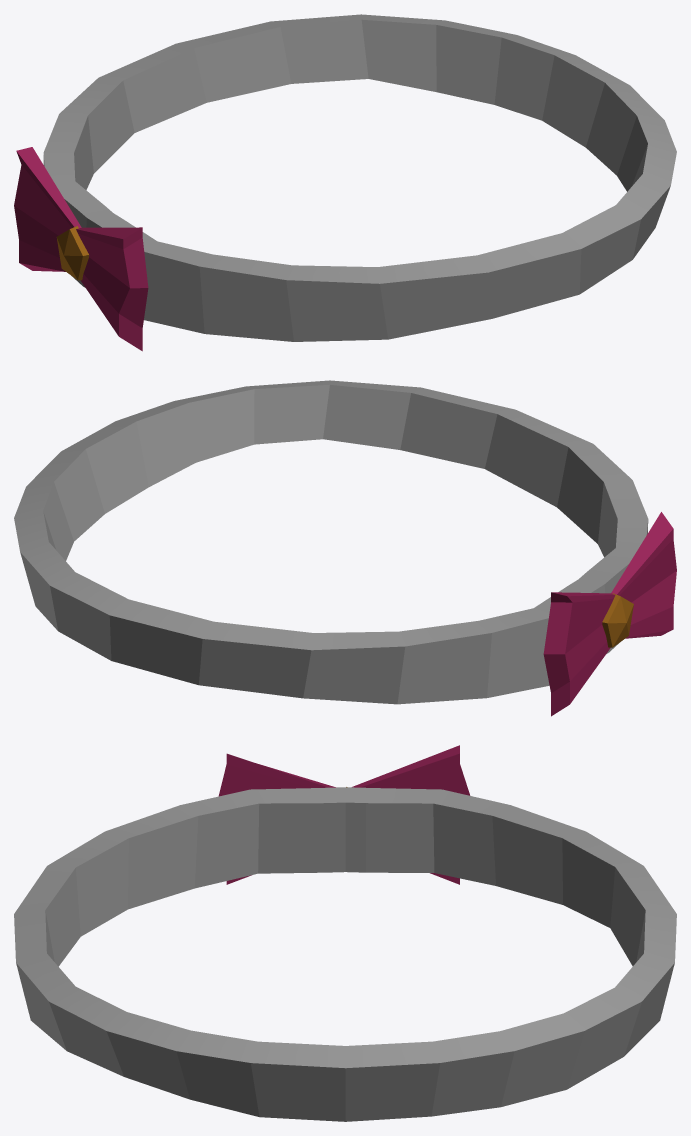
The model's file is NeckWhiteCollar.FBX.
3 renders of one model, top to bottom at view 1: azimuth 30°, elevation 25°; view 2: azimuth 150°, elevation 25°; view 3: azimuth 270°, elevation 25°, orthographic. The views are drawn at different scales.
Parts seen in each view (by area): view 1: Object306; view 2: Object306; view 3: Object306.
Part boxes in pixels (x1,y1,x2,y2): Object306: (14,14,676,351); Object306: (14,380,676,716); Object306: (14,745,676,1121).
Bounding box in the file's own units: 10.91 × 2.29 × 10.44.
